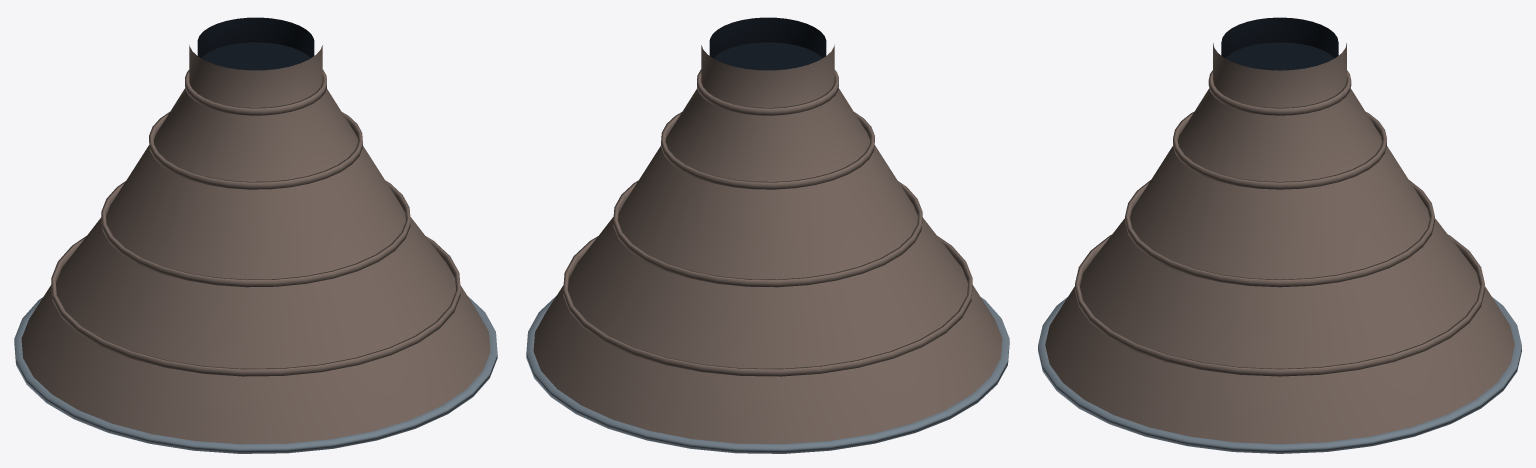
File: liciacube.cold_gas_nozzle.glb
3 views of the same model, side by side, from view 1: azimuth 30°, elevation 25°; view 2: azimuth 150°, elevation 25°; view 3: azimuth 270°, elevation 25° (orthographic).
Visible parts, largest first — view 1: liciacube.cold_gas_nozzle.bell.mesh_Heat-stained_alloy, liciacube.cold_gas_nozzle.bell.mesh_Machined_steel, liciacube.cold_gas_nozzle.bell.mesh_Shadowed_interior; view 2: liciacube.cold_gas_nozzle.bell.mesh_Heat-stained_alloy, liciacube.cold_gas_nozzle.bell.mesh_Machined_steel, liciacube.cold_gas_nozzle.bell.mesh_Shadowed_interior; view 3: liciacube.cold_gas_nozzle.bell.mesh_Heat-stained_alloy, liciacube.cold_gas_nozzle.bell.mesh_Machined_steel, liciacube.cold_gas_nozzle.bell.mesh_Shadowed_interior.
Part boxes in pixels (x1,y1,x2,y2): liciacube.cold_gas_nozzle.bell.mesh_Heat-stained_alloy: (21,45,490,444); liciacube.cold_gas_nozzle.bell.mesh_Machined_steel: (14,296,497,453); liciacube.cold_gas_nozzle.bell.mesh_Shadowed_interior: (197,17,314,70); liciacube.cold_gas_nozzle.bell.mesh_Heat-stained_alloy: (533,45,1002,444); liciacube.cold_gas_nozzle.bell.mesh_Machined_steel: (526,296,1009,453); liciacube.cold_gas_nozzle.bell.mesh_Shadowed_interior: (709,17,826,70); liciacube.cold_gas_nozzle.bell.mesh_Heat-stained_alloy: (1045,43,1514,444); liciacube.cold_gas_nozzle.bell.mesh_Machined_steel: (1038,297,1521,453); liciacube.cold_gas_nozzle.bell.mesh_Shadowed_interior: (1221,17,1338,70).
Size of the model in its own units: 0.0283 by 0.02 by 0.0283.
